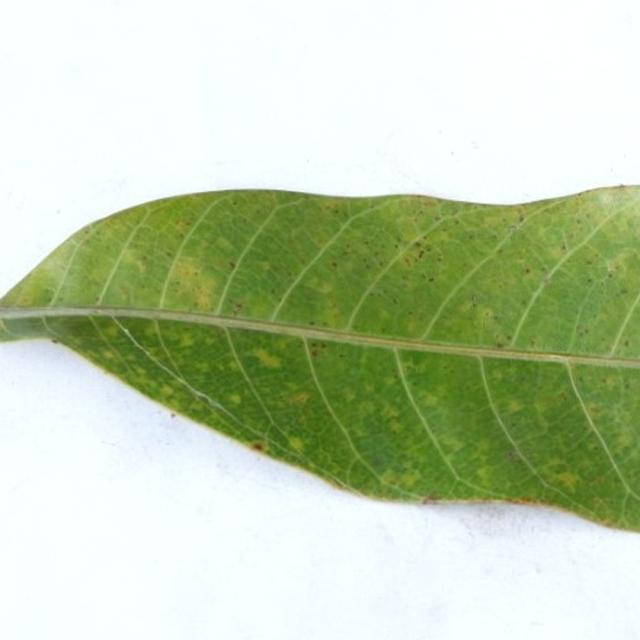Mango: (0, 185, 639, 536)
Powdery_Mildew: (233, 331, 306, 380), (496, 206, 542, 243), (599, 249, 635, 288), (379, 468, 423, 493), (189, 278, 219, 311), (585, 188, 630, 208), (472, 303, 498, 327), (533, 398, 557, 417), (554, 471, 580, 488), (505, 496, 545, 506), (356, 401, 377, 418), (117, 326, 135, 344), (379, 470, 399, 486), (288, 391, 310, 405), (216, 236, 235, 252), (505, 399, 526, 413), (178, 332, 196, 348), (193, 360, 211, 376), (316, 280, 335, 295), (287, 436, 305, 451), (386, 418, 404, 433), (324, 201, 343, 215), (421, 395, 440, 408), (414, 195, 438, 205), (383, 407, 401, 420), (132, 258, 147, 273), (341, 389, 357, 403), (258, 260, 274, 273), (174, 219, 190, 232), (159, 385, 175, 397), (382, 376, 398, 388), (411, 240, 426, 252), (227, 393, 241, 405), (541, 273, 555, 285), (588, 406, 604, 416), (508, 449, 521, 461), (42, 287, 56, 298), (421, 497, 439, 505), (251, 441, 264, 452), (601, 517, 615, 526), (578, 327, 588, 337), (469, 293, 478, 304), (94, 296, 103, 305), (233, 302, 243, 310), (507, 225, 517, 233), (417, 250, 425, 259), (318, 342, 327, 350), (561, 242, 568, 251), (560, 392, 567, 401), (518, 214, 525, 223), (434, 215, 442, 222), (231, 309, 239, 316), (524, 267, 531, 274), (624, 339, 631, 346), (540, 267, 547, 274), (84, 228, 91, 235), (496, 342, 504, 348), (391, 298, 397, 305), (229, 261, 235, 268), (528, 340, 535, 346), (428, 277, 434, 283), (608, 272, 614, 278), (394, 243, 400, 249), (170, 412, 176, 418), (331, 262, 338, 267), (51, 339, 58, 344), (587, 278, 593, 283), (309, 321, 315, 326), (506, 335, 511, 340)
